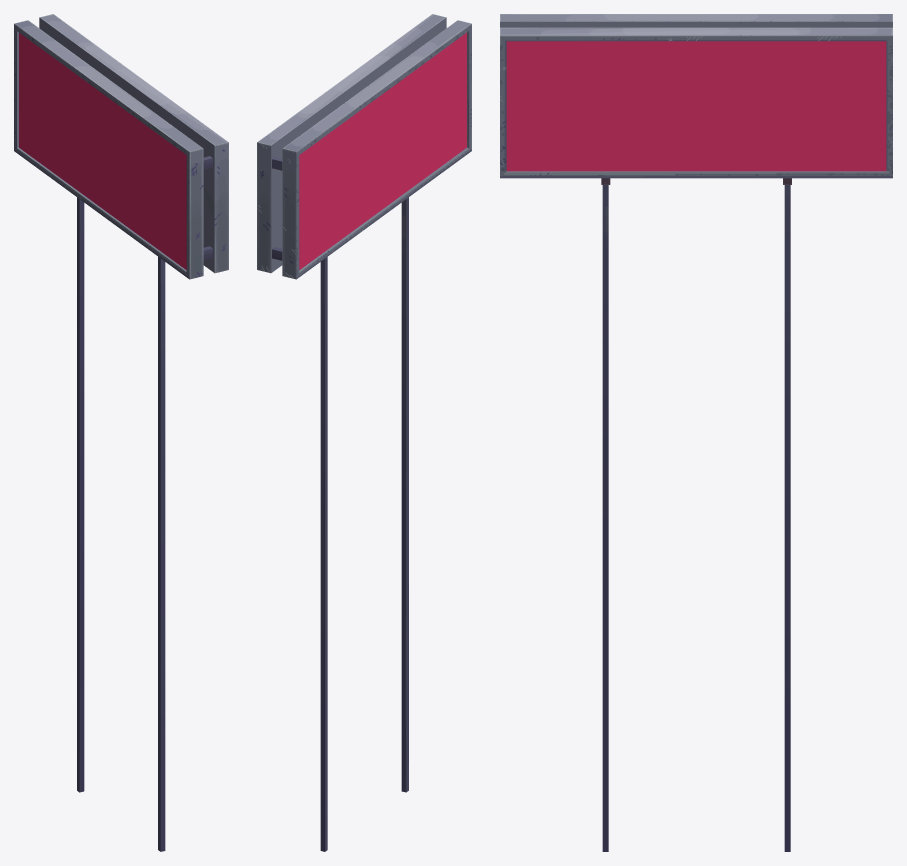
Rendered from Billboard_medium.glb.
3 views of the same model, side by side, from view 1: azimuth 30°, elevation 25°; view 2: azimuth 150°, elevation 25°; view 3: azimuth 270°, elevation 25° (orthographic). The views are drawn at different scales.
Parts seen in each view (by area): view 1: Cube.003; view 2: Cube.003; view 3: Cube.003.
Part boxes in pixels (x1,y1,x2,y2): Cube.003: (14, 14, 228, 851); Cube.003: (257, 14, 471, 851); Cube.003: (500, 14, 892, 851).
Bounding box in the file's own units: 4.63 × 82.91 × 35.73.
2 materials, 1 textured.
